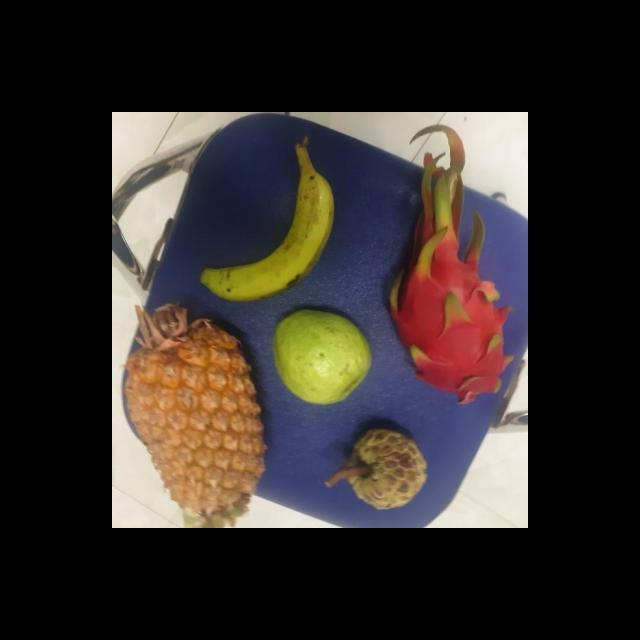Sakya fruit: (342, 426, 433, 508)
banana: (202, 170, 341, 298)
guava: (274, 313, 376, 404)
pitaya: (388, 230, 514, 400)
